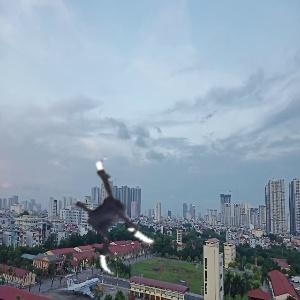drone: (58, 159, 179, 280)
